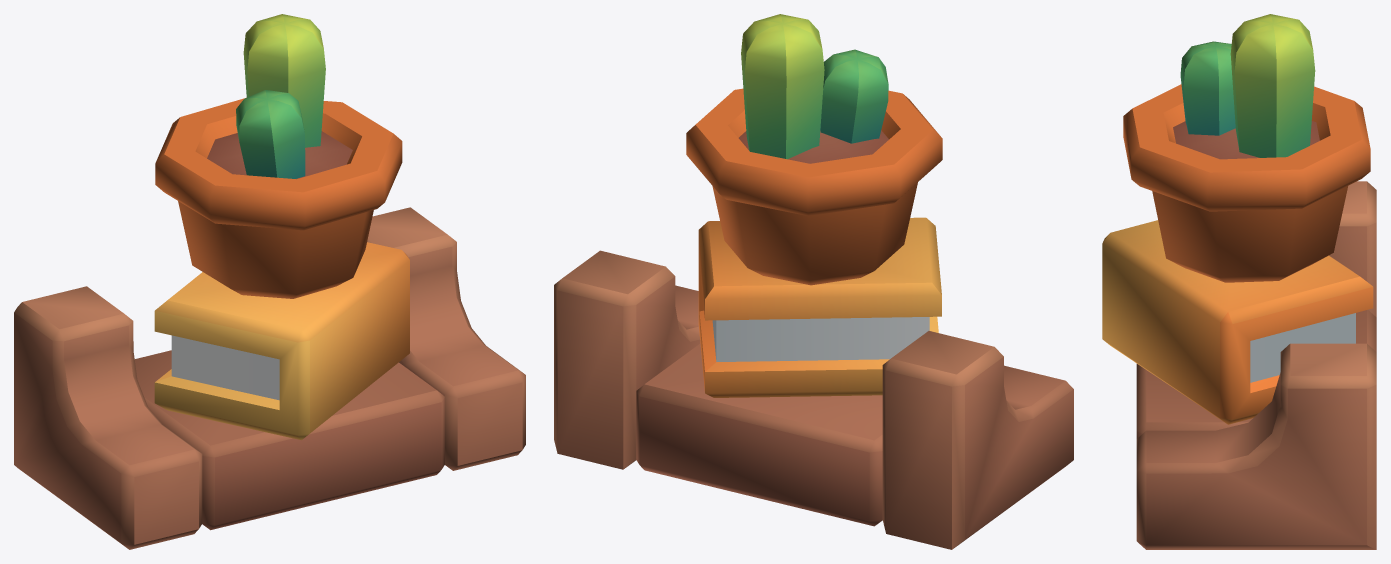
3 renders of one model, left to right at view 1: azimuth 30°, elevation 25°; view 2: azimuth 150°, elevation 25°; view 3: azimuth 270°, elevation 25°, orthographic. The views are drawn at different scales.
Visible parts, largest first — view 1: shelf_B_small_decorated; view 2: shelf_B_small_decorated; view 3: shelf_B_small_decorated.
Part boxes in pixels (box(x1,y1,x2,y2)): shelf_B_small_decorated: box(14, 14, 525, 549); shelf_B_small_decorated: box(554, 14, 1073, 549); shelf_B_small_decorated: box(1102, 14, 1376, 549).
Size of the model in its own units: 1 by 1.01 by 0.5713.
Materials: 1 (1 with a texture image).
